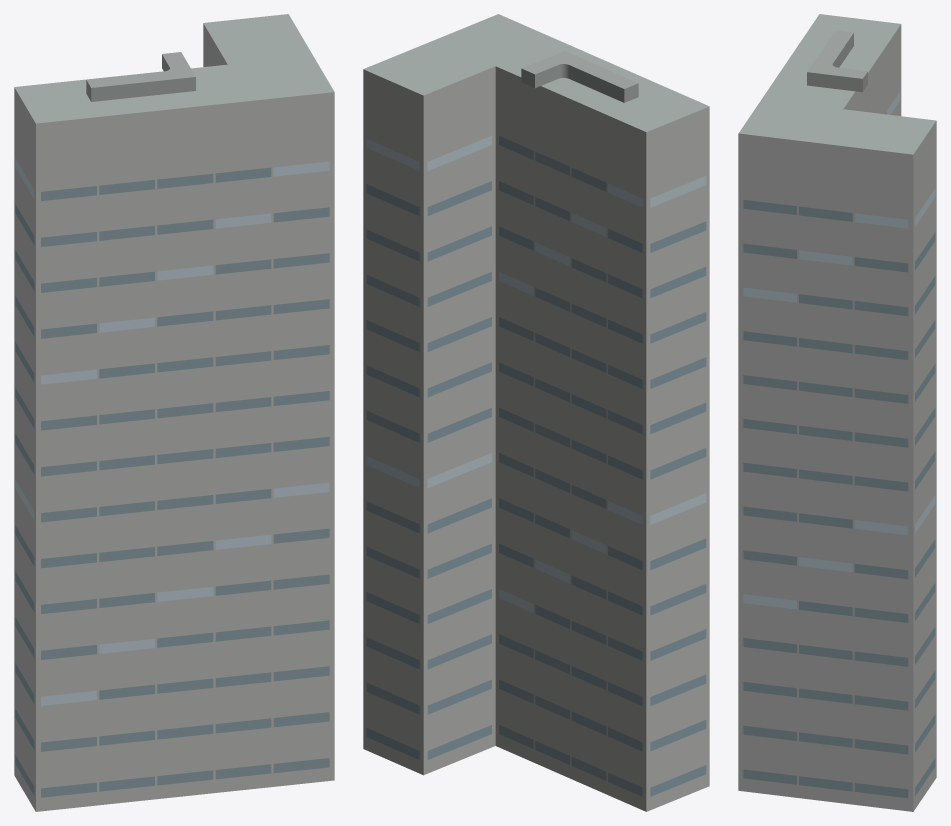
Rendered from fallback-olympic-park-foreon-120.glb.
3 renders of one model, left to right at view 1: azimuth 30°, elevation 25°; view 2: azimuth 150°, elevation 25°; view 3: azimuth 270°, elevation 25°, orthographic. The views are drawn at different scales.
Parts seen in each view (by area): view 1: fallback-olympic-park-foreon-120; view 2: fallback-olympic-park-foreon-120; view 3: fallback-olympic-park-foreon-120.
Boxes of the visible parts, box(x1,y1,x2,y2) form: fallback-olympic-park-foreon-120: box(14, 14, 334, 811); fallback-olympic-park-foreon-120: box(363, 14, 709, 811); fallback-olympic-park-foreon-120: box(738, 14, 936, 811).
Bounding box in the file's own units: 53.97 × 120 × 32.11.
